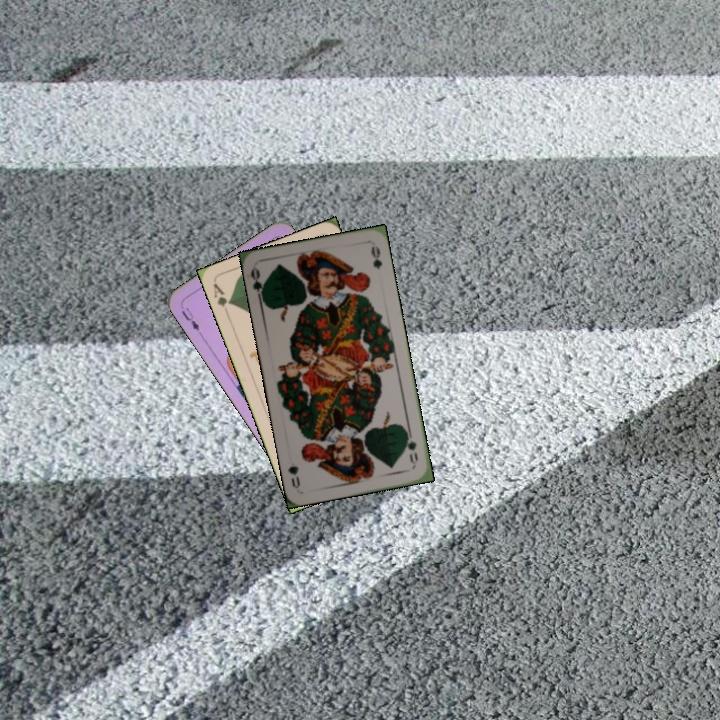EU: (177, 303, 202, 333)
GA: (209, 279, 235, 318)
GO: (246, 264, 268, 305), (401, 427, 420, 467)
